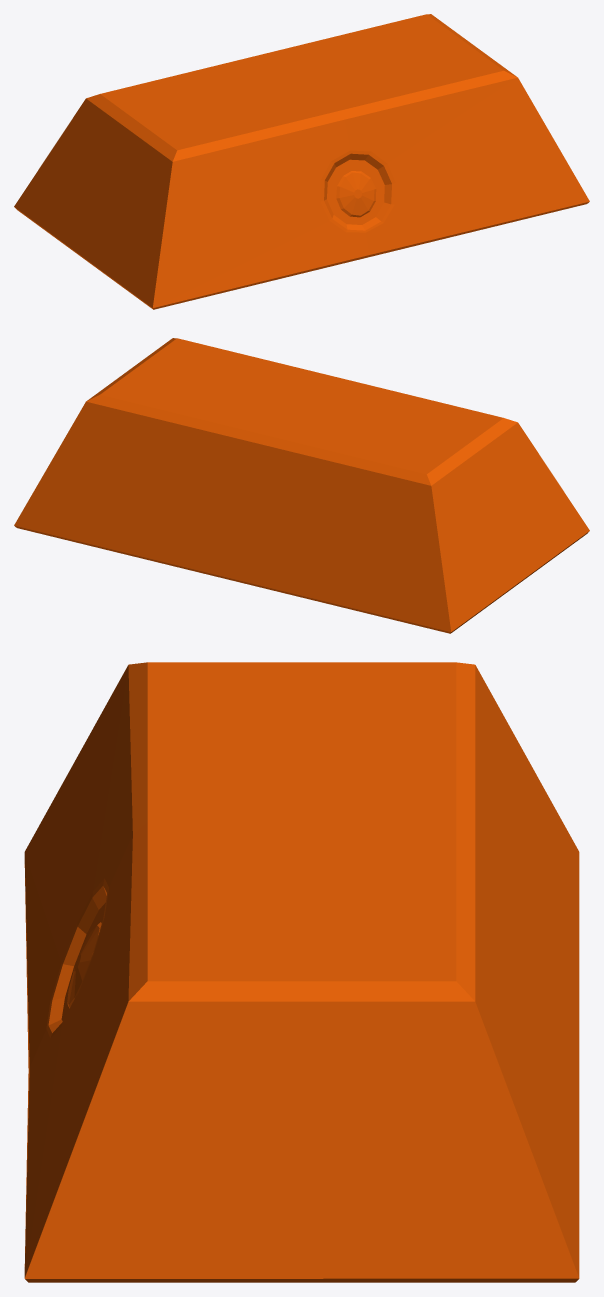
File: metal_element.fbx
3 renders of one model, top to bottom at view 1: azimuth 30°, elevation 25°; view 2: azimuth 150°, elevation 25°; view 3: azimuth 270°, elevation 25°, orthographic. The views are drawn at different scales.
Visible parts, largest first — view 1: Cube; view 2: Cube; view 3: Cube.
Boxes of the visible parts, x1,y1,x2,y2 form: Cube: (14,14,589,309); Cube: (14,338,589,633); Cube: (24,662,579,1282).
Size of the model in its own units: 892 by 243 by 490.
